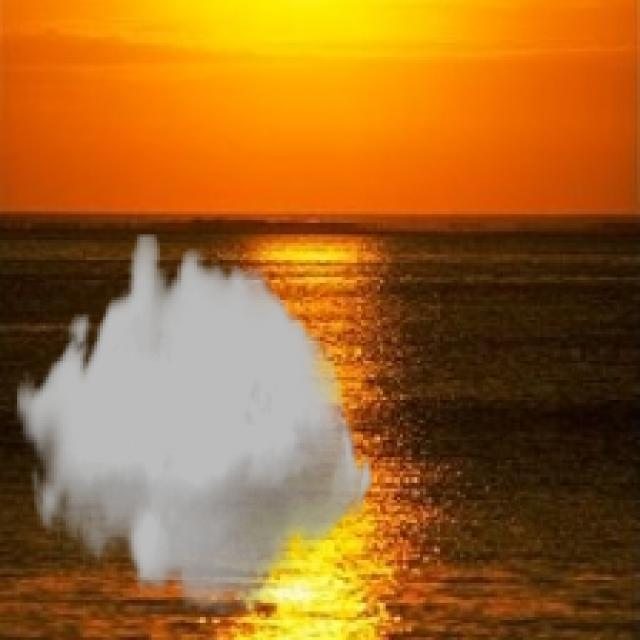Smoke: (14, 235, 374, 614)
